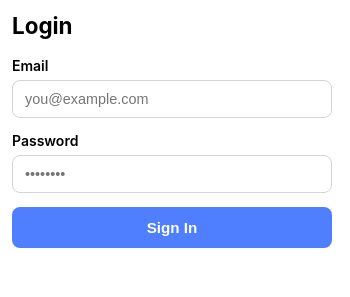
it: LoginForm › shows error for short password
Type "user@test.com" into the field labelled "Email" at coordinates (172, 99), box [12,80,332,118]
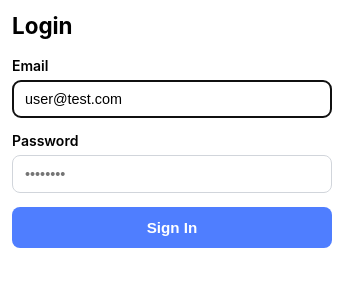
Type "123" into the password field labelled "Password" at coordinates (172, 174), box [12,155,332,193]
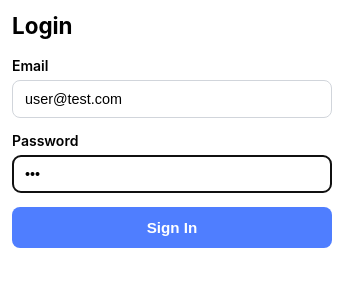
Click the button "Sign In" at coordinates (172, 228), box [12,207,332,248]
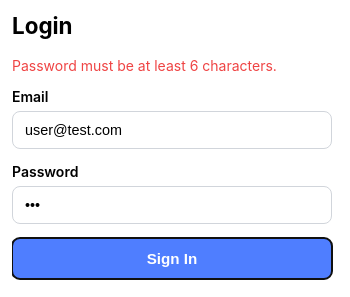
Result: the message shows "6 characters" at [12,57,277,74]
